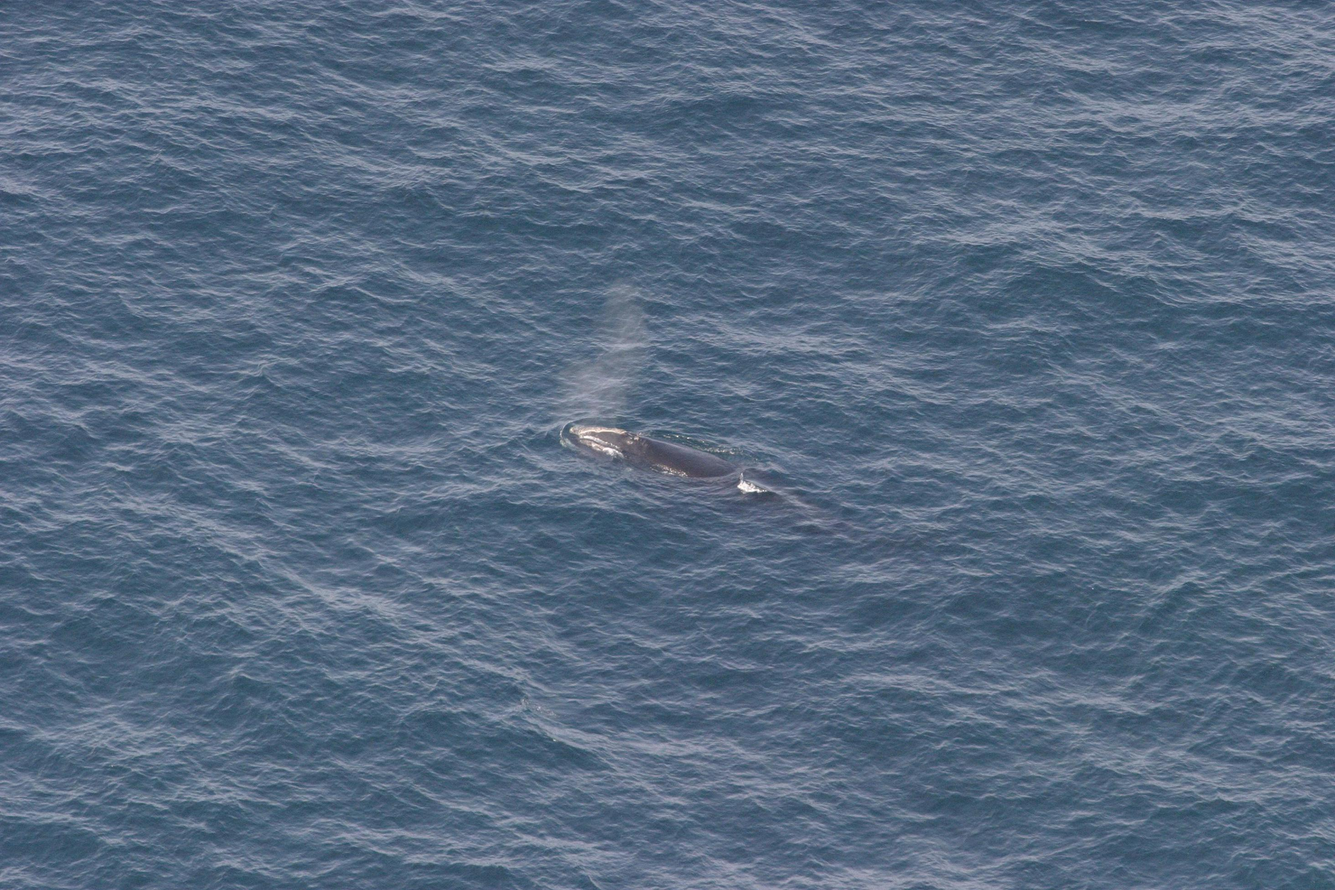whale: (556, 415, 878, 559)
